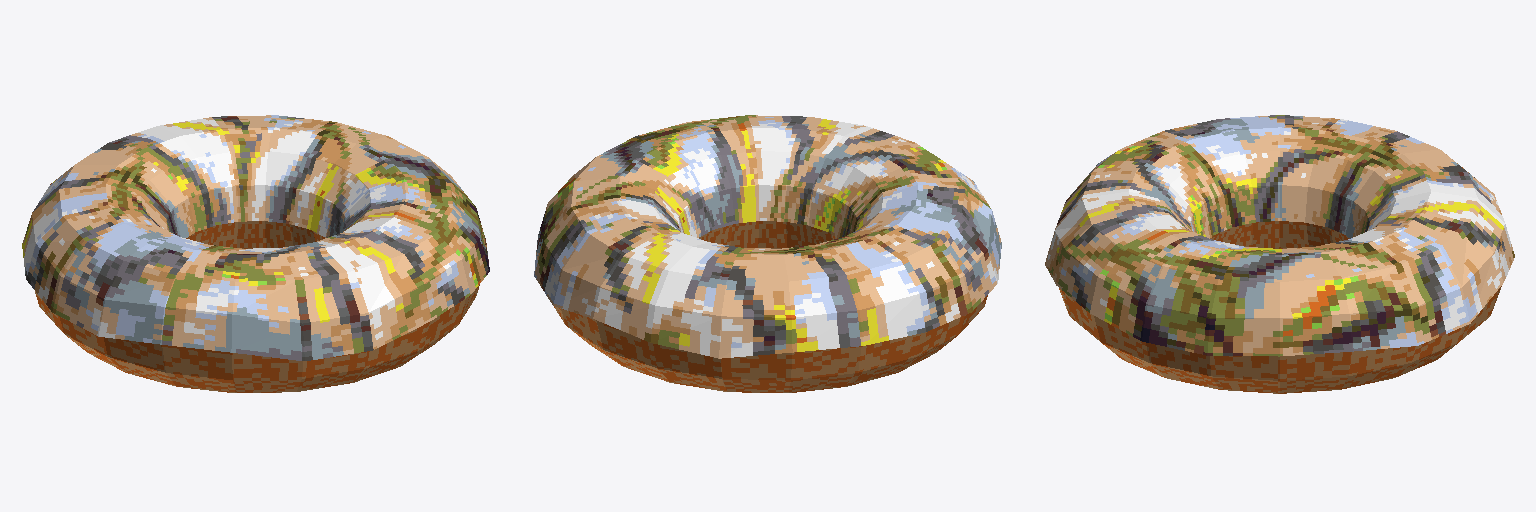
The picture shows the model from 3 angles: view 1: azimuth 30°, elevation 25°; view 2: azimuth 150°, elevation 25°; view 3: azimuth 270°, elevation 25°; orthographic projection.
Parts seen in each view (by area): view 1: doughnut_ps_baked; view 2: doughnut_ps_baked; view 3: doughnut_ps_baked.
Part boxes in pixels (x1,y1,x2,y2): doughnut_ps_baked: (22, 115, 489, 392); doughnut_ps_baked: (534, 115, 1001, 392); doughnut_ps_baked: (1045, 115, 1514, 393).
Bounding box in the file's own units: 1.28 × 0.3887 × 1.28.
Materials: 1 (1 with a texture image).